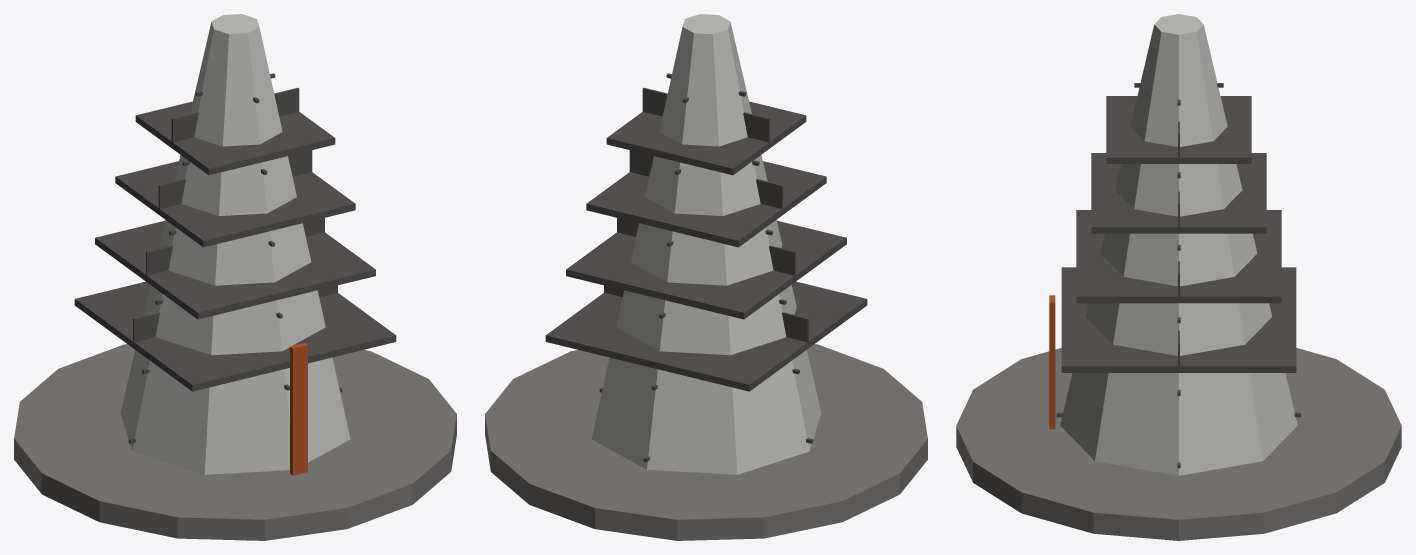
File: radio_mast_1_kiln.glb
3 renders of one model, left to right at view 1: azimuth 30°, elevation 25°; view 2: azimuth 150°, elevation 25°; view 3: azimuth 270°, elevation 25°, orthographic.
Visible parts, largest first — view 1: Cylinder, Cone, Cube, Cube.002, Cube.004, Cube.006, Cube.008, Cube.007, Cube.005, Cube.003, Cube.001; view 2: Cone, Cylinder, Cube, Cube.002, Cube.004, Cube.006, Cube.007, Cube.005, Cube.003, Cube.001; view 3: Cone, Cylinder, Cube, Cube.002, Cube.004, Cube.006, Cube.008.
Part boxes in pixels (x1,y1,x2,y2): Cylinder: (14,344,456,540); Cone: (120,14,350,474); Cube: (74,281,396,391); Cube.002: (95,220,375,319); Cube.004: (115,161,355,247); Cube.006: (135,101,335,175); Cube.008: (290,343,307,475); Cube.007: (171,87,299,145); Cube.005: (158,150,312,211); Cube.003: (146,218,324,278); Cube.001: (133,285,337,345); Cone: (591,14,821,474); Cylinder: (485,344,927,540); Cube: (545,281,867,391); Cube.002: (566,220,846,319); Cube.004: (586,161,826,247); Cube.006: (606,101,806,175); Cube.007: (642,87,770,143); Cube.005: (629,150,783,211); Cube.003: (617,218,795,275); Cube.001: (604,285,808,345); Cone: (1060,14,1297,475); Cylinder: (956,348,1401,540); Cube: (1061,267,1296,372); Cube.002: (1076,210,1281,303); Cube.004: (1091,153,1266,233); Cube.006: (1106,96,1251,163); Cube.008: (1049,295,1055,429).
Size of the model in its own units: 15.3 by 16 by 15.3.
